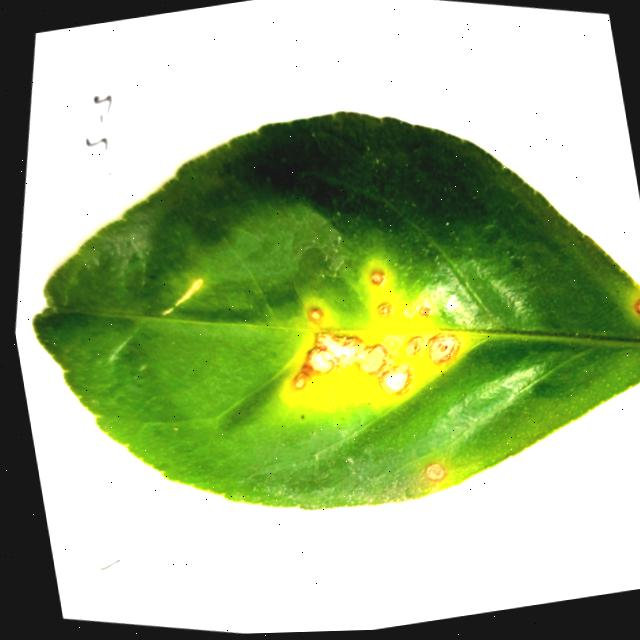antracnose: (32, 111, 640, 507), (292, 331, 411, 394), (427, 332, 459, 363), (404, 335, 423, 356), (424, 462, 445, 480), (369, 267, 385, 284), (376, 301, 392, 316), (307, 307, 322, 321), (418, 304, 429, 316), (634, 298, 640, 313)
